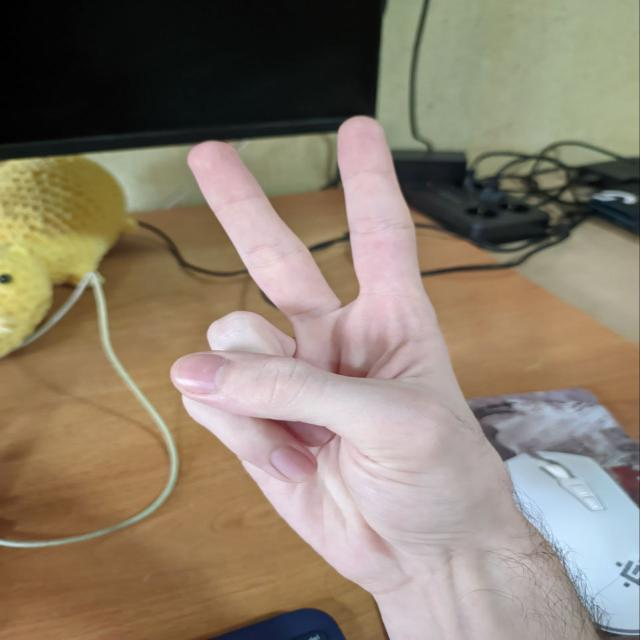k: (102, 100, 495, 520)
